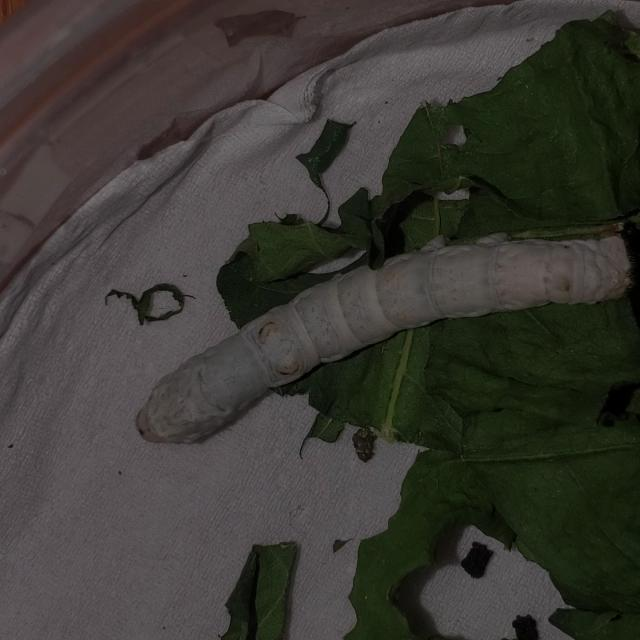Healthy: (129, 217, 633, 449)
